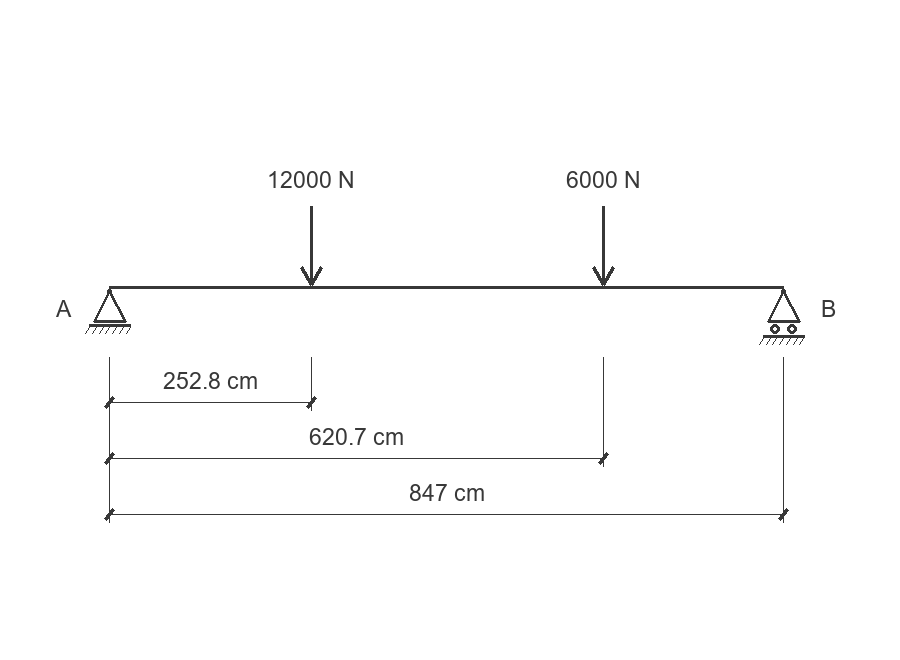pin_support: (85, 289, 131, 334)
point_load: (300, 206, 323, 286), (592, 206, 615, 286)
roller_support: (759, 289, 805, 345)
